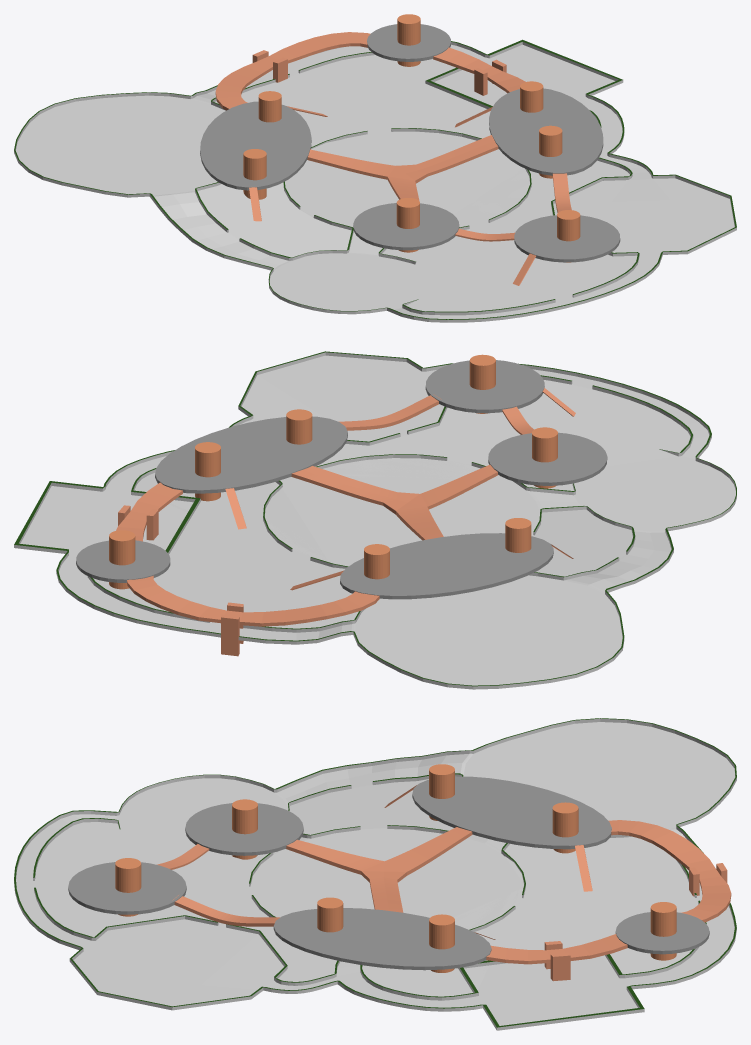
File: New_mall_greybox+2ndfloor.fbx
The picture shows the model from 3 angles, top to bottom: view 1: azimuth 30°, elevation 25°; view 2: azimuth 150°, elevation 25°; view 3: azimuth 270°, elevation 25°; orthographic projection. The views are drawn at different scales.
Parts seen in each view (by area): view 1: Mallgrey, Platform3, Platform5, Platform2, Platform1, Bridge3, Bridge4, Platform4, Bridge5, tree3, tree2, tree6 (+5 smaller); view 2: Mallgrey, Platform3, Platform5, Bridge4, Bridge3, Platform2, Platform1, Platform4, Bridge5, Bridge1, tree1, tree2 (+5 smaller); view 3: Mallgrey, Platform5, Platform3, Bridge3, Platform1, Platform2, Bridge4, Bridge5, Platform4, Bridge1, tree2, tree7 (+6 smaller).
Part boxes in pixels (x1,y1,x2,y2): Mallgrey: (14, 39, 736, 322); Platform3: (200, 101, 311, 190); Platform5: (489, 88, 603, 175); Platform2: (353, 203, 459, 250); Platform1: (514, 215, 620, 262); Bridge3: (307, 135, 498, 200); Bridge4: (215, 32, 370, 110); Platform4: (367, 24, 450, 61); Bridge5: (433, 47, 525, 95); tree3: (243, 149, 266, 199); tree2: (397, 14, 420, 66); tree6: (539, 125, 562, 178); Mallgrey: (14, 351, 736, 689); Platform3: (340, 533, 553, 599); Platform5: (155, 416, 347, 493); Bridge4: (127, 575, 379, 656); Bridge3: (291, 464, 497, 540); Platform2: (488, 432, 607, 485); Platform1: (425, 360, 544, 413); Platform4: (76, 540, 170, 582); Bridge5: (116, 482, 182, 541); Bridge1: (339, 394, 441, 430); tree1: (195, 442, 220, 501); tree2: (109, 530, 135, 589); Mallgrey: (14, 718, 736, 1030); Platform5: (273, 908, 491, 970); Platform3: (412, 776, 611, 849); Bridge3: (286, 827, 472, 912); Platform1: (68, 862, 186, 914); Platform2: (185, 803, 303, 855); Bridge4: (608, 820, 731, 922); Bridge5: (486, 934, 627, 981); Platform4: (615, 912, 709, 954); Bridge1: (172, 895, 279, 926); tree2: (650, 902, 676, 960); tree7: (552, 802, 578, 853).
Bounding box in the file's own units: 37642 × 3700 × 38580.
